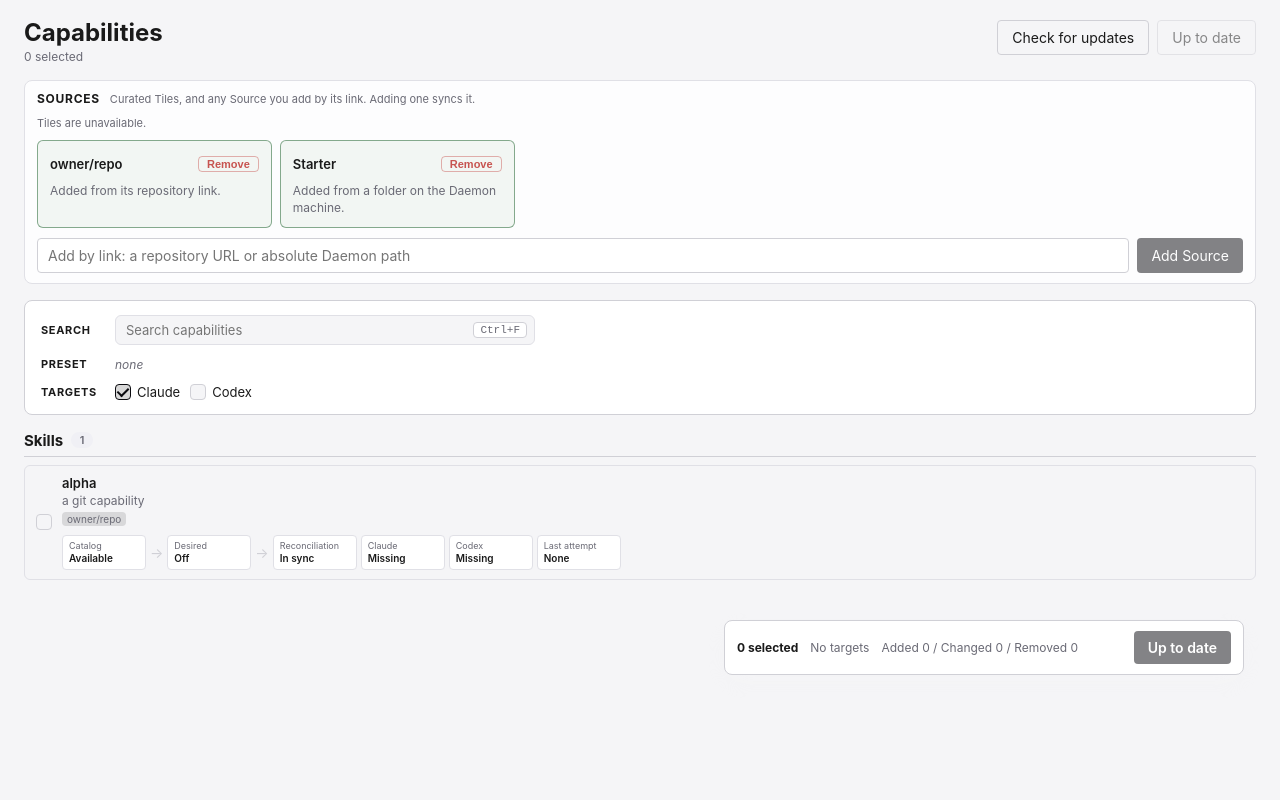
Scenario: KitDeployPage — action feedback toasts › a sync that rejects shows an error toast
The image size is (1280, 800).
Click the button with test id "kit-check-updates" at [1073, 38], box [997,20,1149,55]
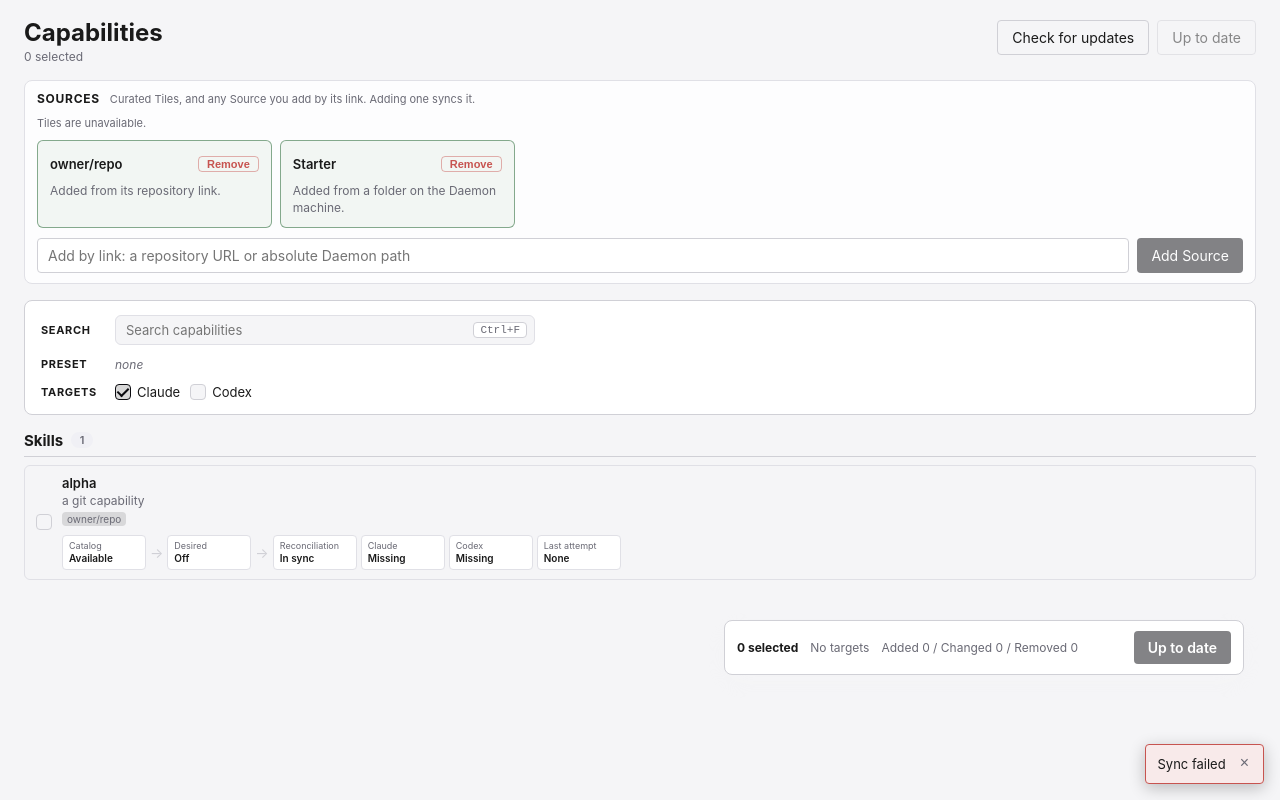
Now the text "Sync failed" is shown, box [1158,755,1226,773]
Now the text with test id "toast-error" reads "Sync failed", box [1158,756,1226,772]
